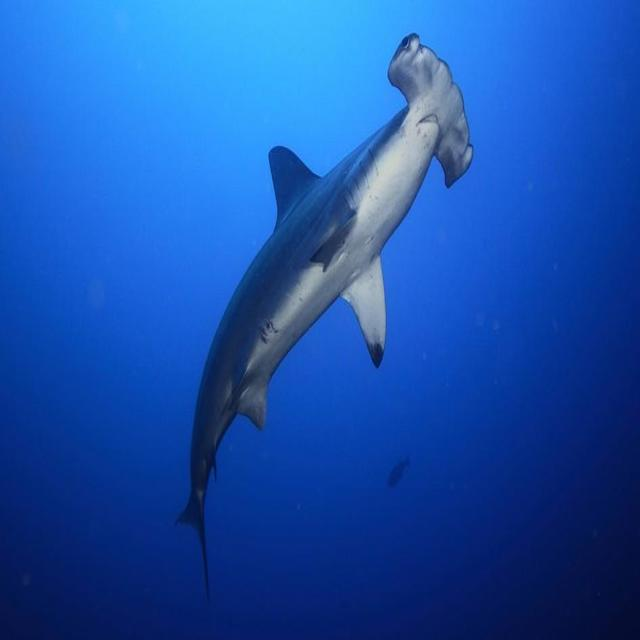hammerhead: (170, 32, 491, 590)
